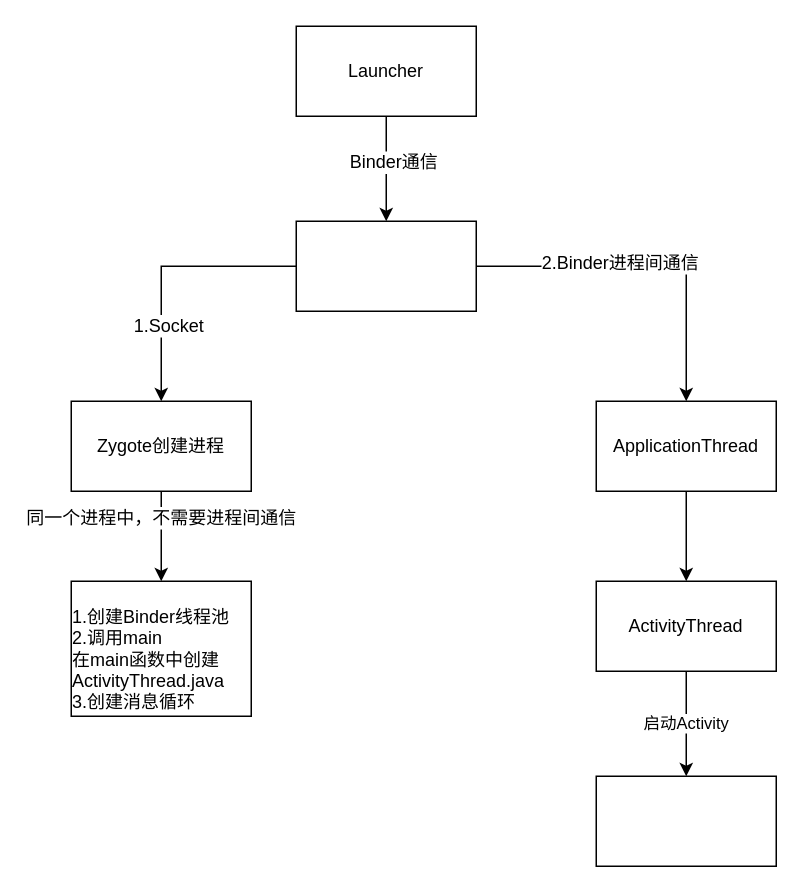
This 803x893 diagram has some shape labels left out. The shapes that lost their labels are listed below. From the top down, each one's centre as x and y in pixels, then its label:
At [385,265]: "AMS".
At [685,820]: "Instrumentation".
